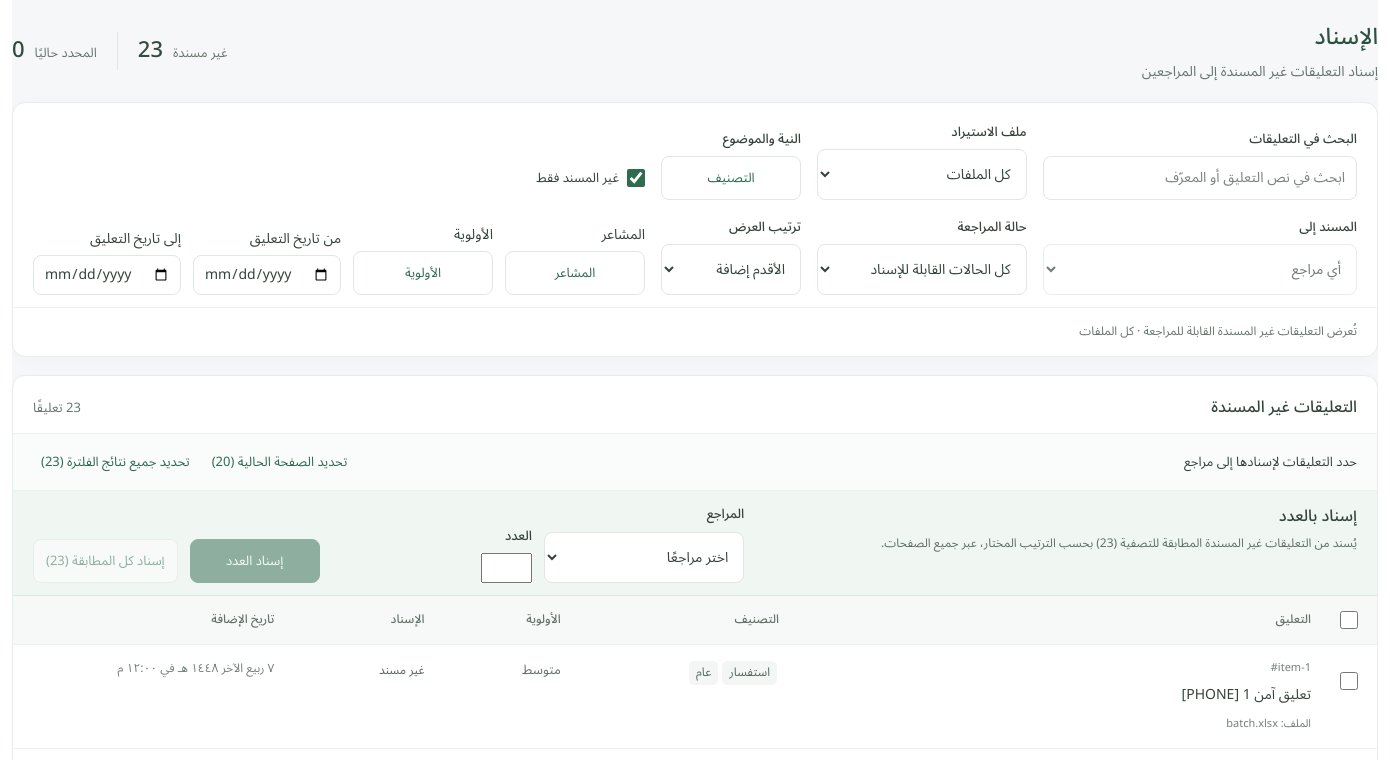
Test case: Admin Assignment workspace › disables count assignment when already-assigned comments are included, because it never reassigns
The image size is (1390, 760).
expect the checkbox named "تحديد item-1" is shown: met, box [1340, 672, 1358, 690]
Click the checkbox labelled "غير المسند فقط".
click(636, 178)  # box [627, 169, 645, 187]
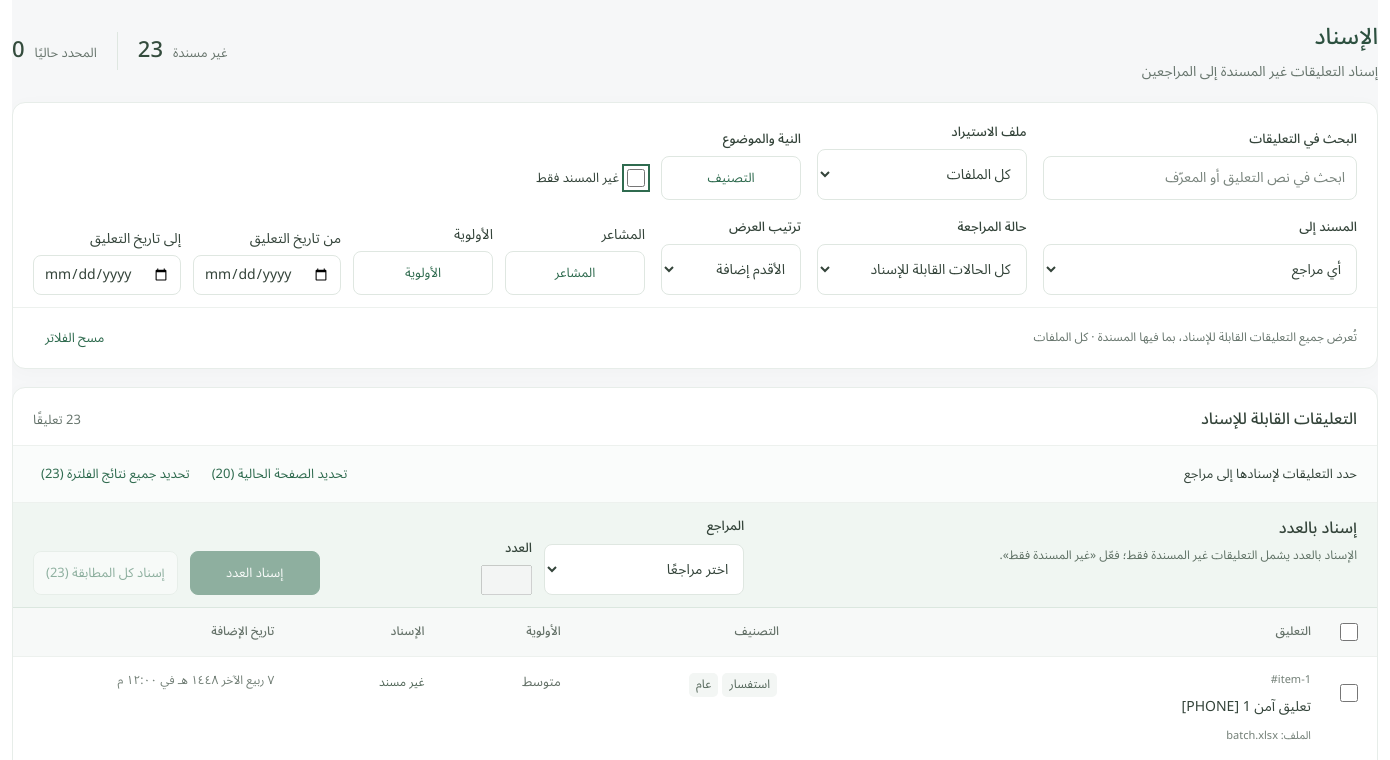
expect the button "إسناد كل المطابقة (23)" is disabled: met, box [33, 551, 178, 595]
expect the text "الإسناد بالعدد يشمل التعليقات غير المسندة فقط" is shown: met, box [999, 543, 1357, 568]
expect the number field named "عدد التعليقات المطلوب إسنادها" is disabled: met, box [481, 565, 532, 595]
